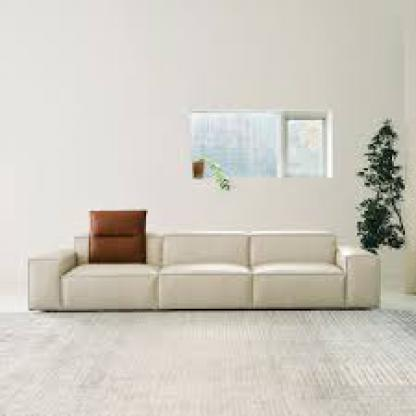sofa: (24, 211, 390, 325)
